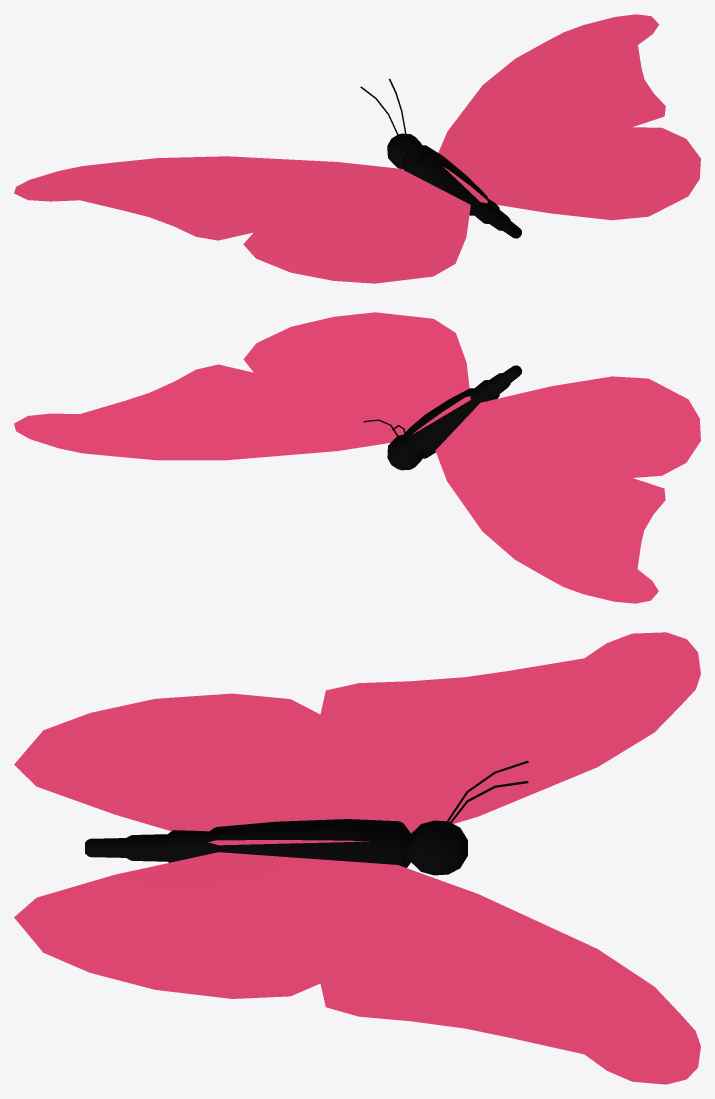
The model's file is butterfly03.glb.
The picture shows the model from 3 angles, top to bottom: view 1: azimuth 30°, elevation 25°; view 2: azimuth 150°, elevation 25°; view 3: azimuth 270°, elevation 25°; orthographic projection. The views are drawn at different scales.
Parts seen in each view (by area): view 1: Circle; view 2: Circle; view 3: Circle.
Part boxes in pixels (x1=…): Circle: x1=14, y1=14, x2=700, y2=283; Circle: x1=14, y1=312, x2=700, y2=603; Circle: x1=14, y1=632, x2=700, y2=1084.
Bounding box in the file's own units: 23.32 × 2.33 × 13.92.
